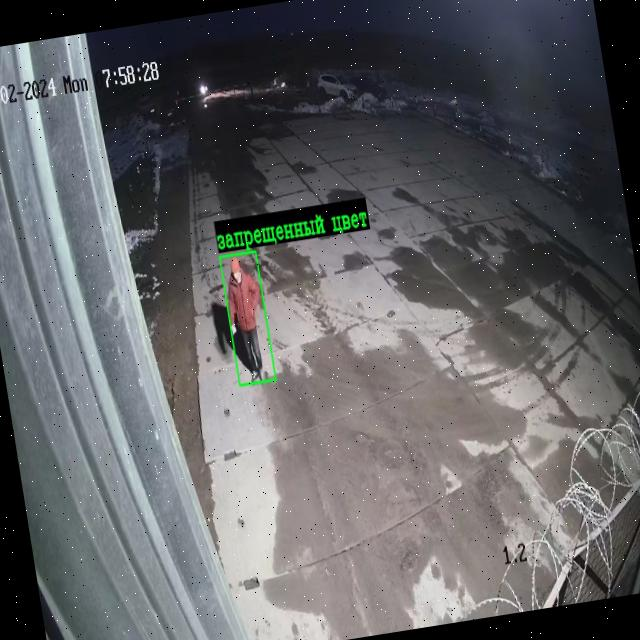Red uniform: (228, 258, 263, 379)
